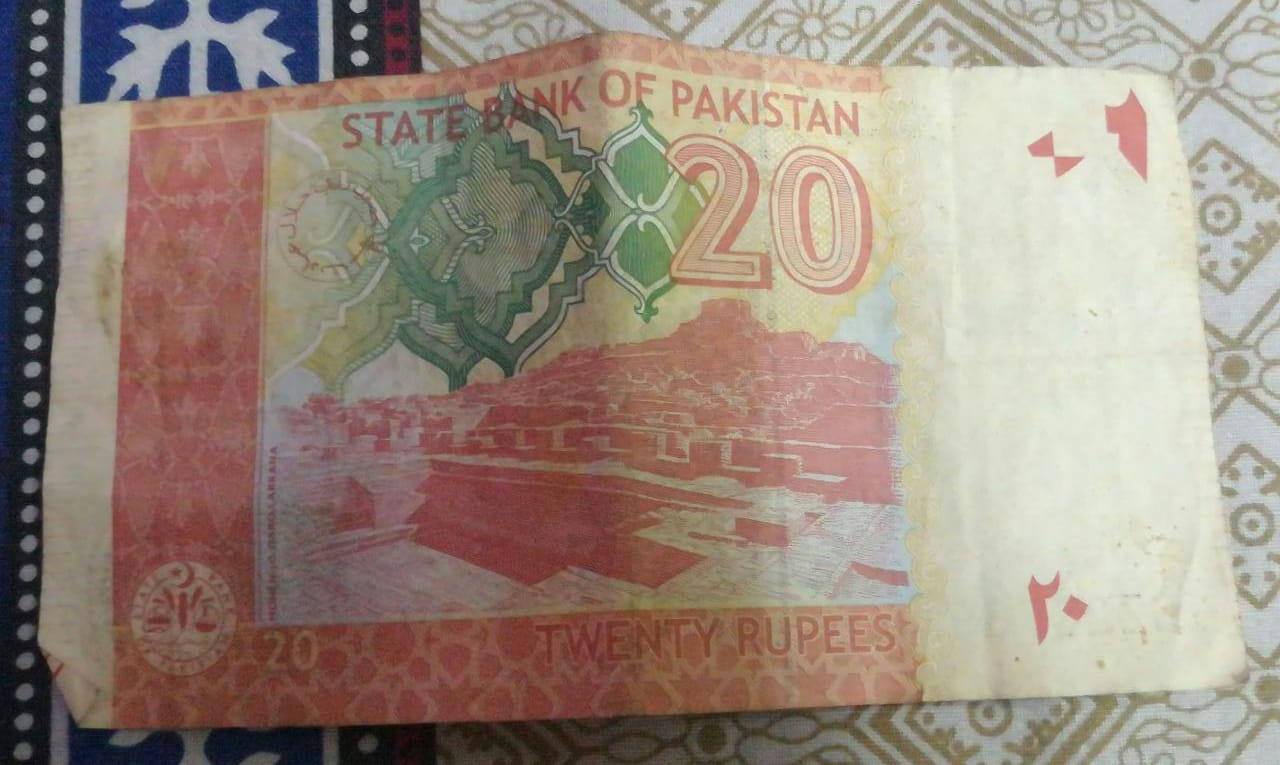20 rupee: (28, 62, 1271, 751)
